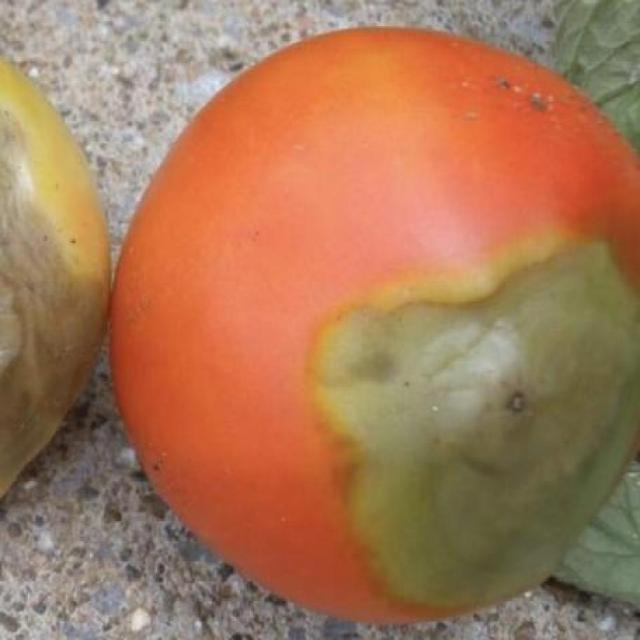Blossom End Rot Fruit: (34, 196, 314, 281)
